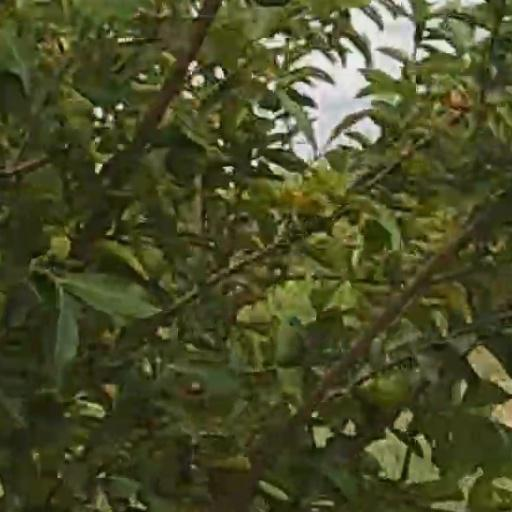acerola_verde: (360, 364, 405, 403), (470, 475, 512, 511)
